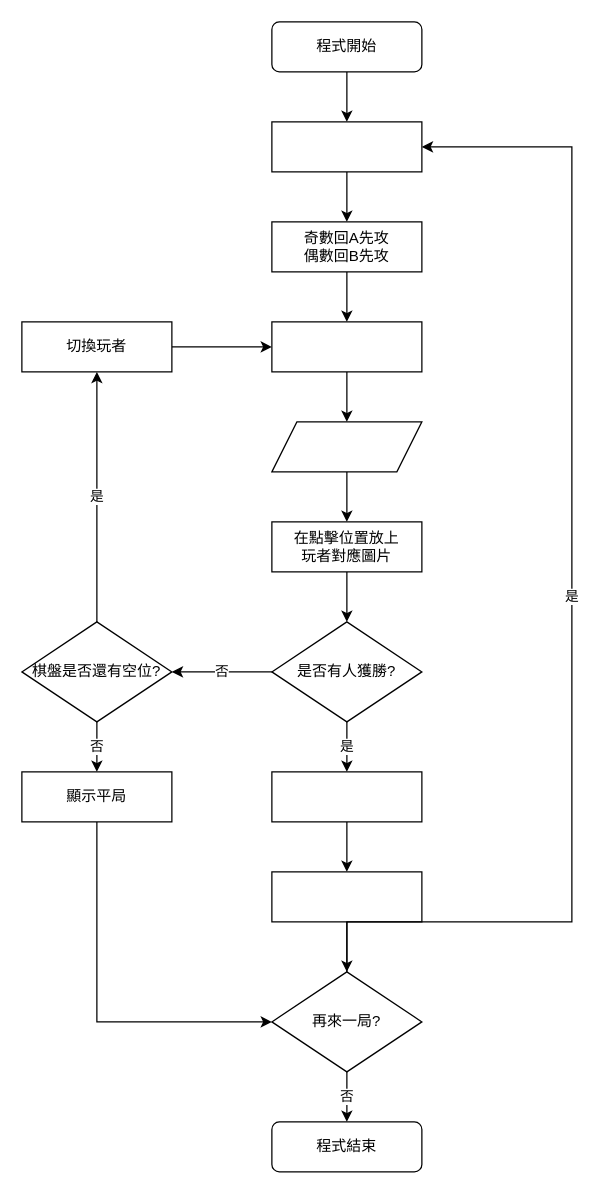
The diagram is 604 pixels wide and 1194 high, and some of its shapes have lost their labels. The box of each missing label's shape, as (x1, y1, x2, y2) in pixels:
初始化棋盤 回合數+1: (271, 121, 422, 172)
更新比分: (271, 871, 422, 922)
玩者點擊棋盤: (271, 421, 422, 472)
畫面提示攻擊者下棋: (271, 321, 422, 372)
顯示勝利者: (271, 771, 422, 822)
